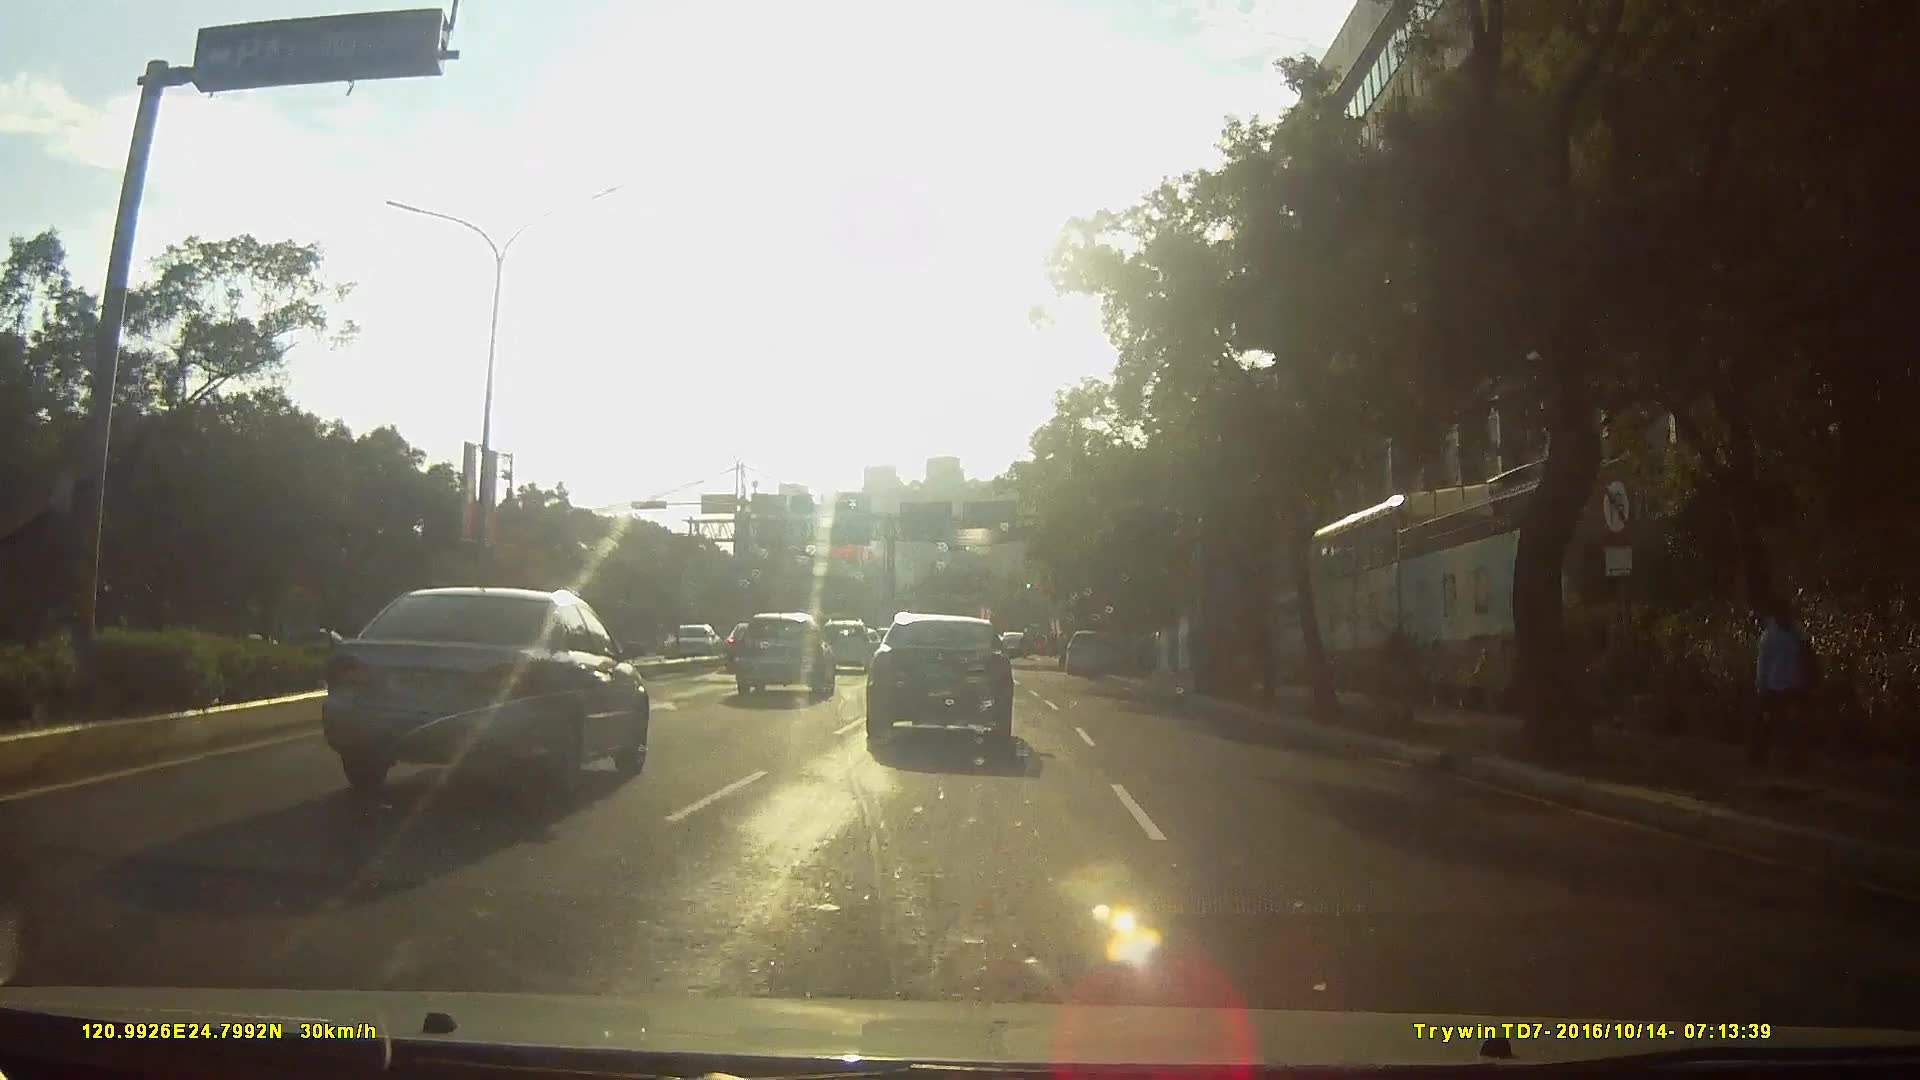pedestrian: (1756, 589, 1824, 773)
vehicle: (295, 582, 661, 811), (864, 611, 1036, 758), (727, 610, 831, 702), (811, 617, 871, 675), (658, 618, 730, 665), (1063, 626, 1116, 675)
